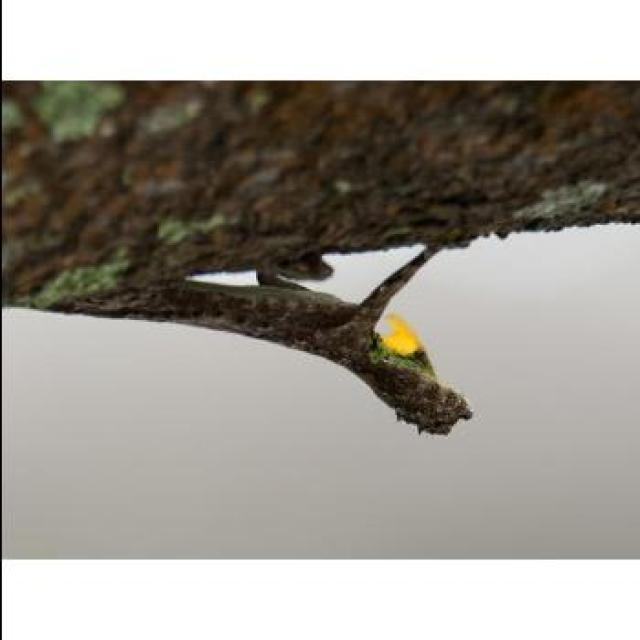Lizard: (69, 234, 489, 442)
